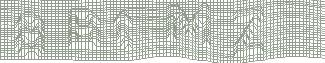8: (13, 11, 47, 59)
B: (66, 7, 103, 52)
M: (165, 1, 210, 50)
Z: (230, 6, 266, 57)
t: (112, 8, 135, 53)
